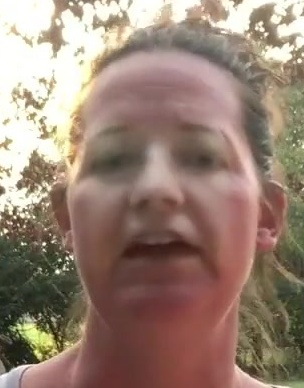eb_f: (83, 116, 246, 188)
